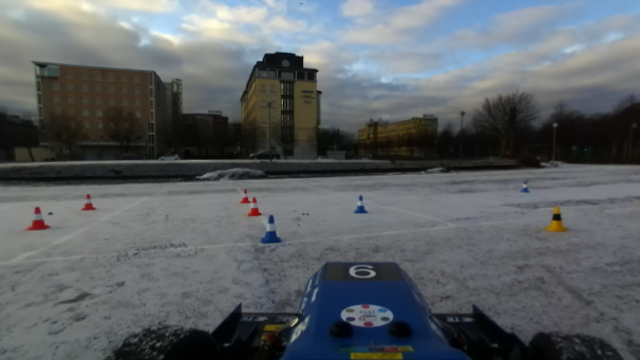blue: (260, 215, 282, 243), (352, 192, 366, 215), (519, 178, 530, 195)
orange: (24, 205, 51, 229), (81, 193, 96, 210), (249, 197, 261, 217), (241, 187, 251, 205)
yellow: (543, 206, 568, 236)
